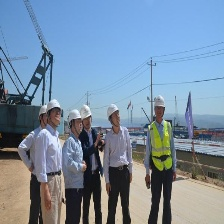helmet: (67, 106, 92, 121), (41, 100, 62, 110), (153, 95, 167, 109), (108, 104, 118, 118)
no-vest: (63, 138, 103, 194), (38, 128, 63, 180), (110, 129, 130, 169)
person: (63, 104, 105, 224), (143, 95, 178, 224), (105, 101, 135, 224), (37, 94, 63, 224)
vest: (149, 121, 175, 170)
